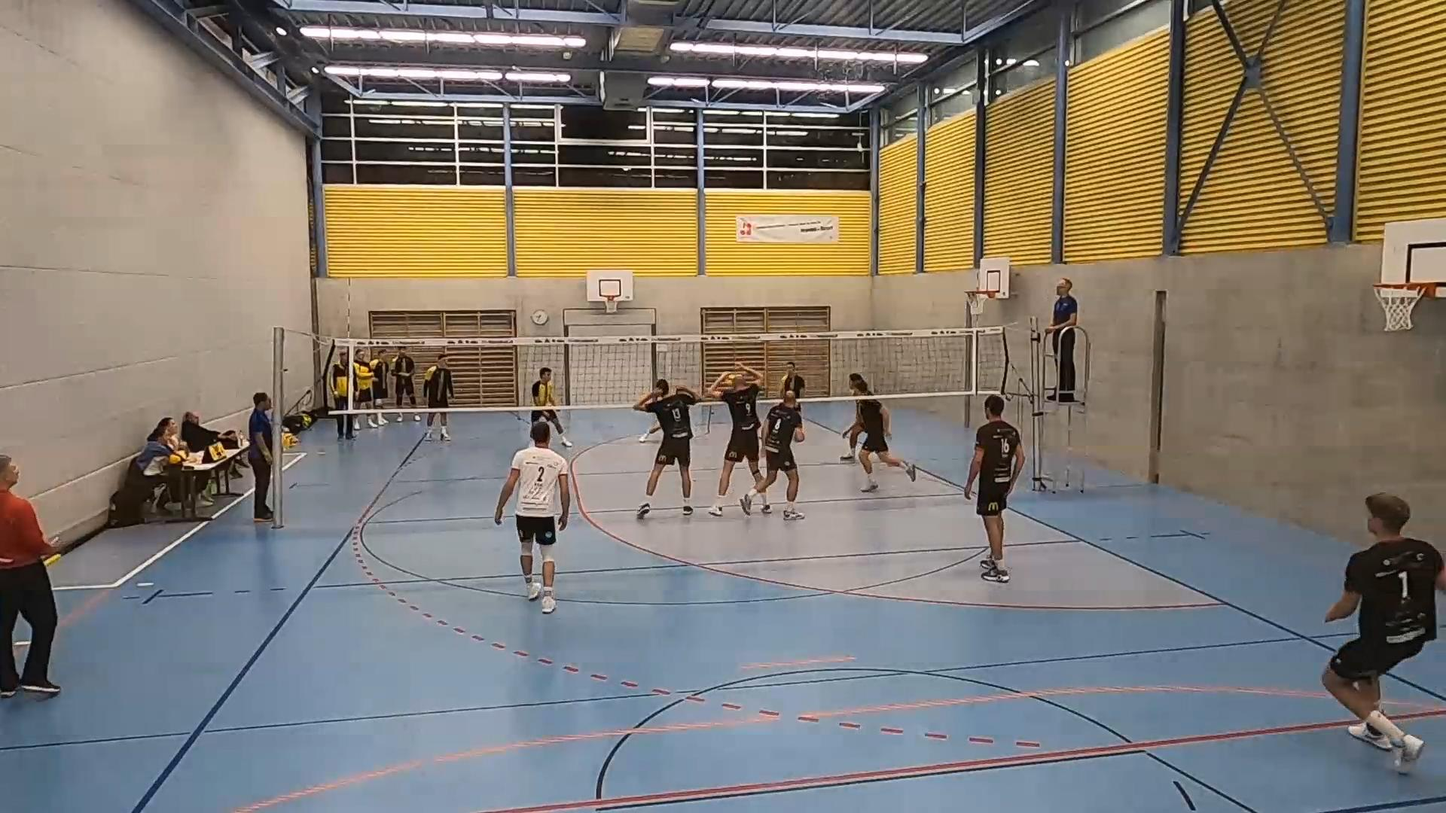Player: (1318, 483, 1446, 782), (494, 422, 570, 613), (965, 395, 1024, 583), (634, 379, 698, 519), (740, 390, 804, 519), (709, 363, 761, 516), (852, 379, 917, 492), (530, 367, 572, 446), (423, 355, 454, 408), (840, 402, 862, 461), (779, 361, 805, 398), (639, 422, 660, 443)
